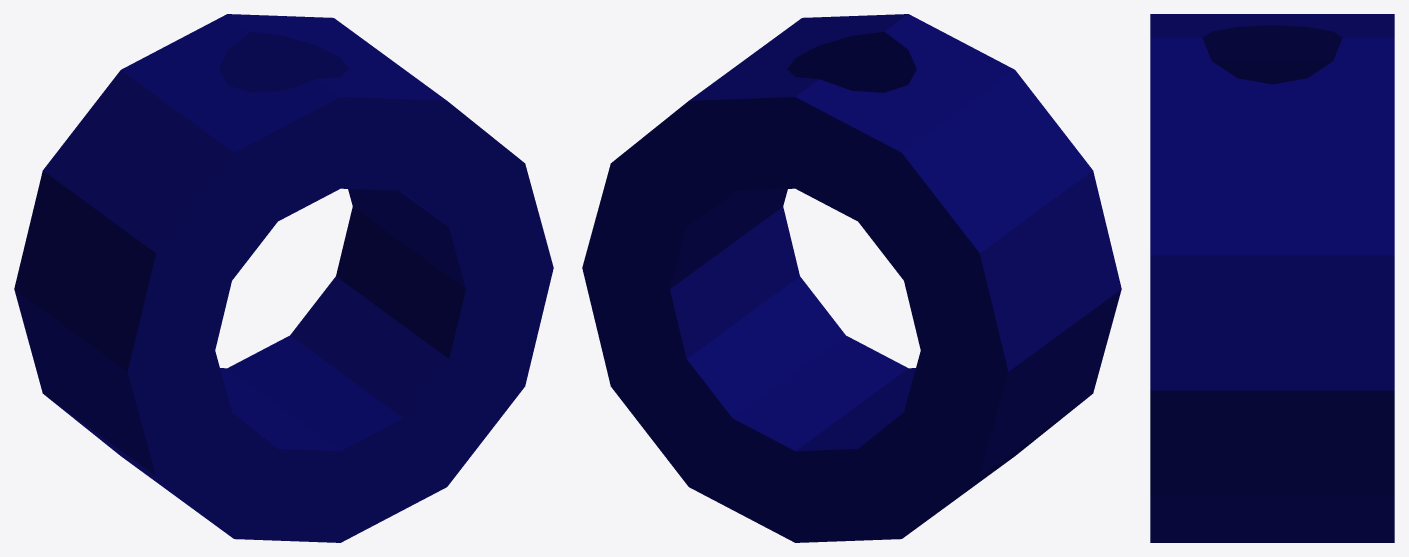
The model's file is pendulum_part_1.dae.
3 views of the same model, side by side, from view 1: azimuth 30°, elevation 25°; view 2: azimuth 150°, elevation 25°; view 3: azimuth 270°, elevation 25° (orthographic). The views are drawn at different scales.
Parts seen in each view (by area): view 1: group_0 (×2); view 2: group_0 (×2); view 3: group_0.
Boxes of the visible parts, x1,y1,x2,y2 form: group_0 (×2): (14,14,553,542); group_0 (×2): (582,14,1121,542); group_0: (1150,14,1394,542).
Bounding box in the file's own units: 434 × 200 × 434.
